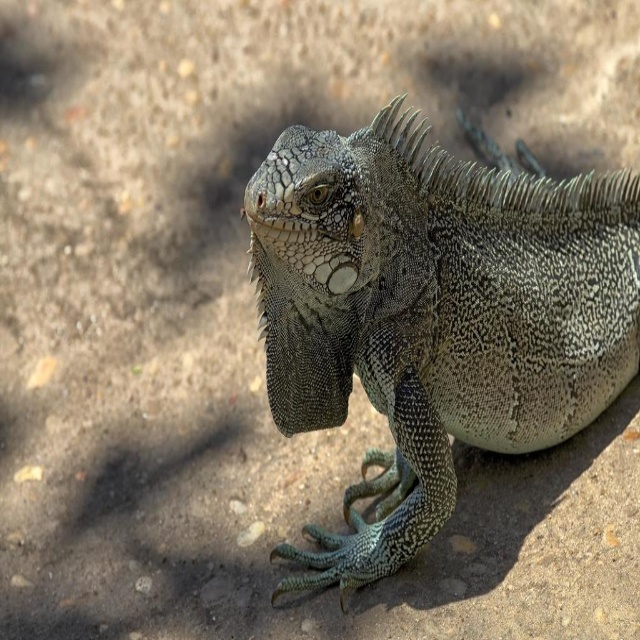Lizard: (256, 70, 640, 638)
